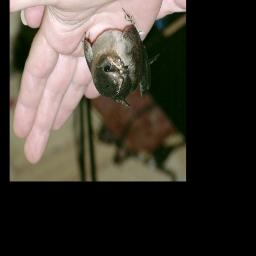Swallow: (82, 4, 162, 110)
